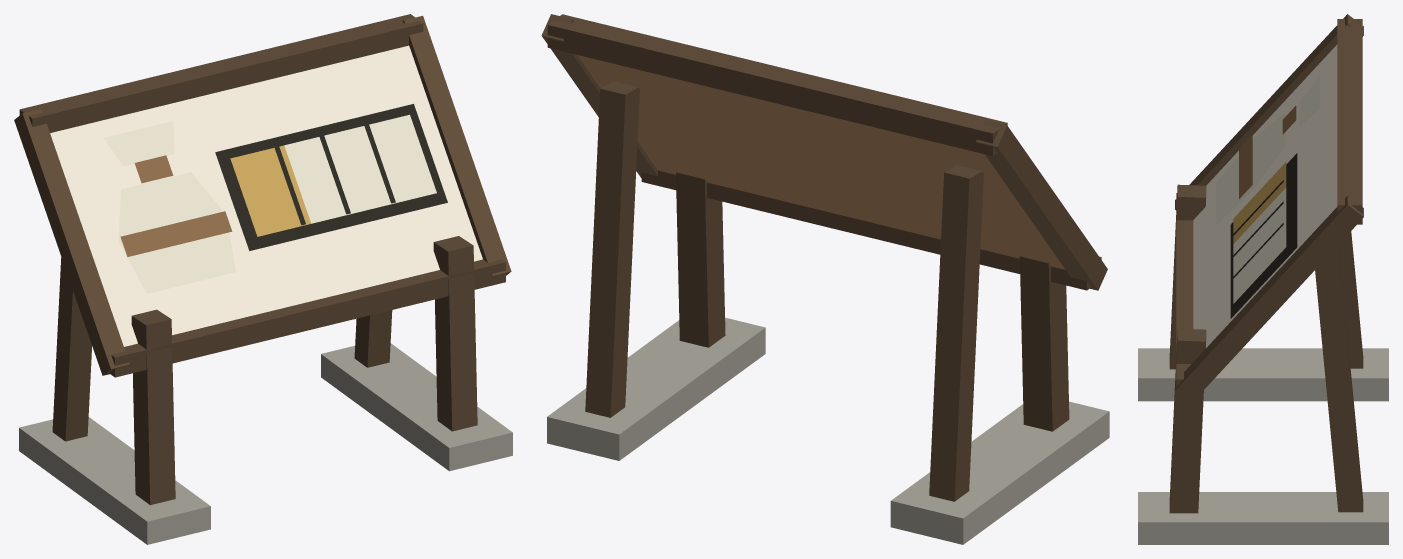
Rendered from quay-sign-flour.glb.
3 renders of one model, left to right at view 1: azimuth 30°, elevation 25°; view 2: azimuth 150°, elevation 25°; view 3: azimuth 270°, elevation 25°, orthographic. The views are drawn at different scales.
Visible parts, largest first — view 1: quay-sign-flour; view 2: quay-sign-flour; view 3: quay-sign-flour.
Boxes of the visible parts, bbox=[...] form: quay-sign-flour: bbox=[14, 14, 512, 544]; quay-sign-flour: bbox=[541, 14, 1109, 544]; quay-sign-flour: bbox=[1138, 14, 1388, 544].
Bounding box in the file's own units: 2.52 × 2.15 × 1.4.
1 material, 1 textured.
